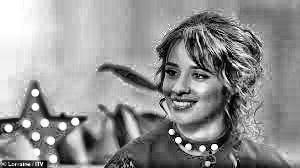happy: (156, 29, 232, 127)
